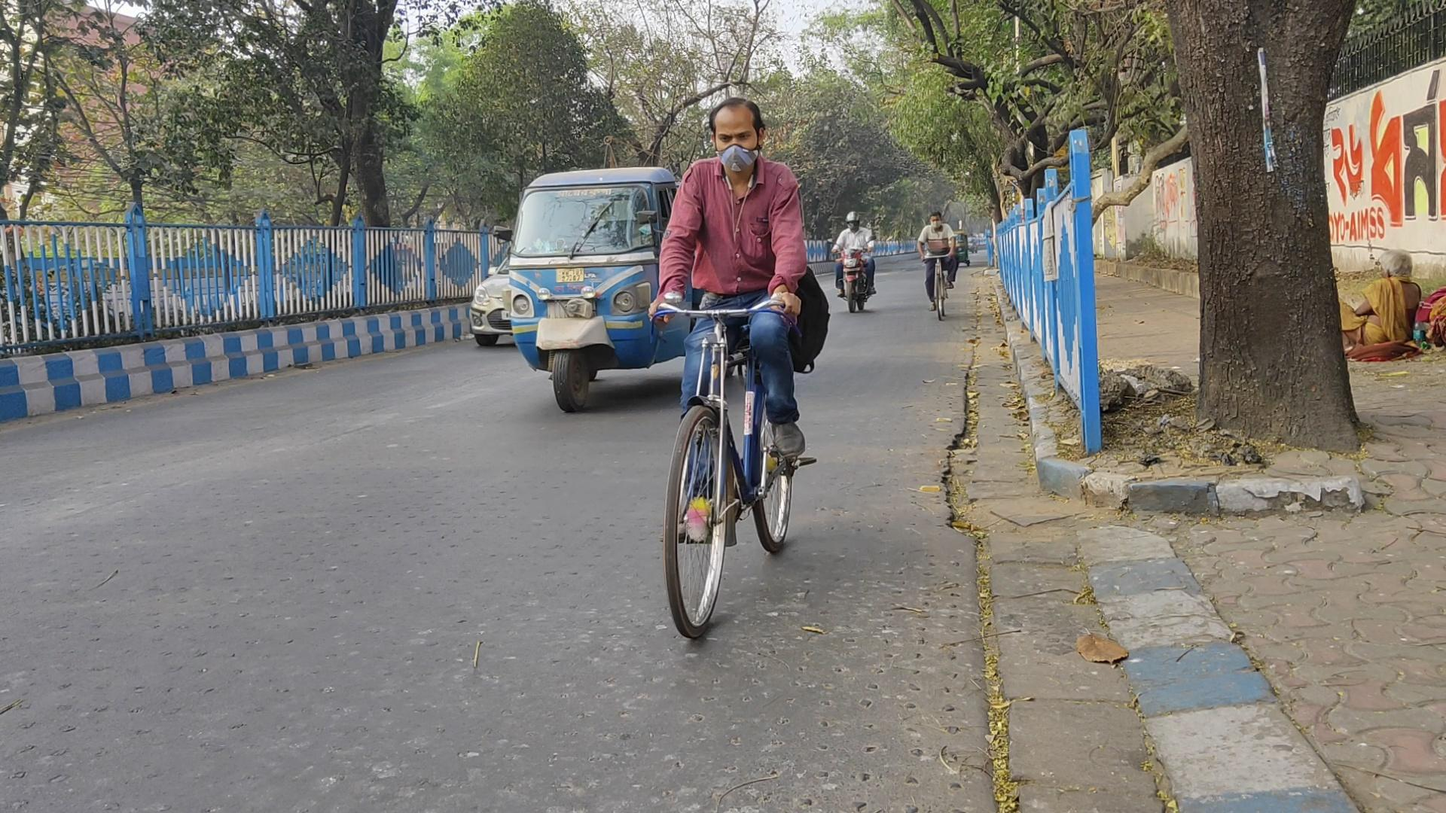bike: (645, 96, 819, 642), (825, 207, 880, 315), (917, 209, 956, 322)
van: (505, 165, 686, 412)
